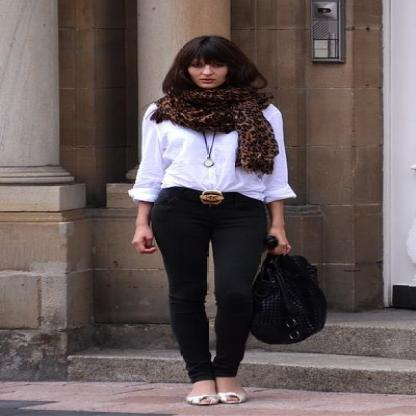bag: (262, 253, 329, 344)
pants: (140, 198, 278, 385)
shirt: (128, 108, 295, 202)
shoe: (203, 380, 239, 402)
